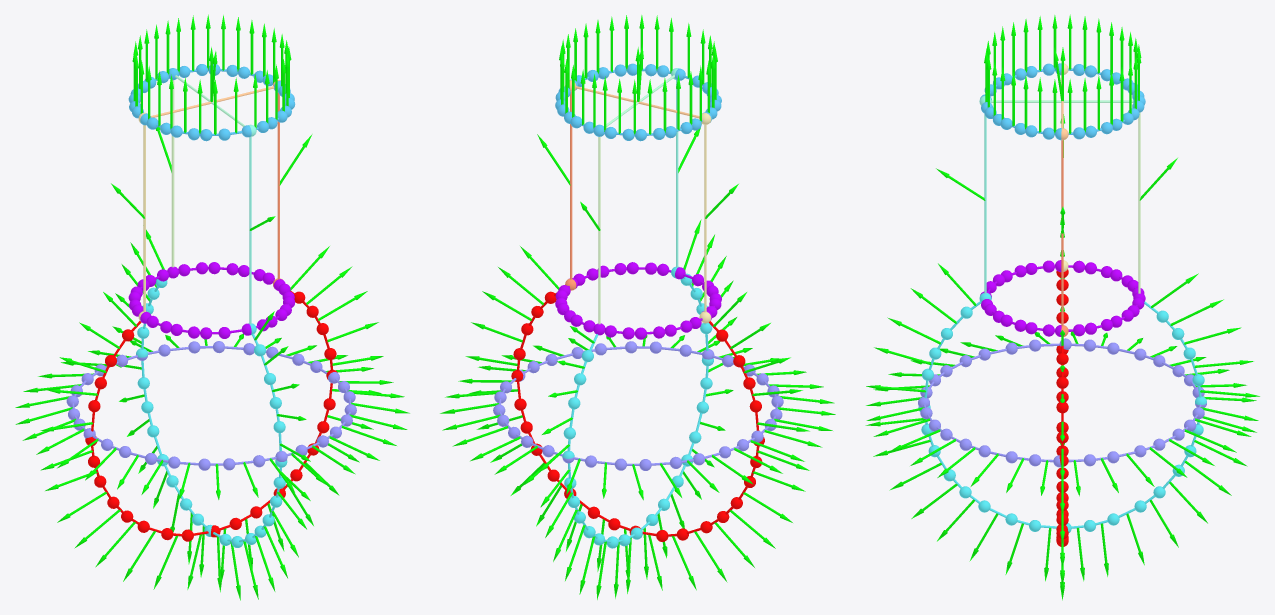
File: flowrep_spherecylinder.gltf
The picture shows the model from 3 angles, left to right: view 1: azimuth 30°, elevation 25°; view 2: azimuth 150°, elevation 25°; view 3: azimuth 270°, elevation 25°; orthographic projection.
Bounding box in the file's own units: 0.646 × 0.9663 × 0.6459.
